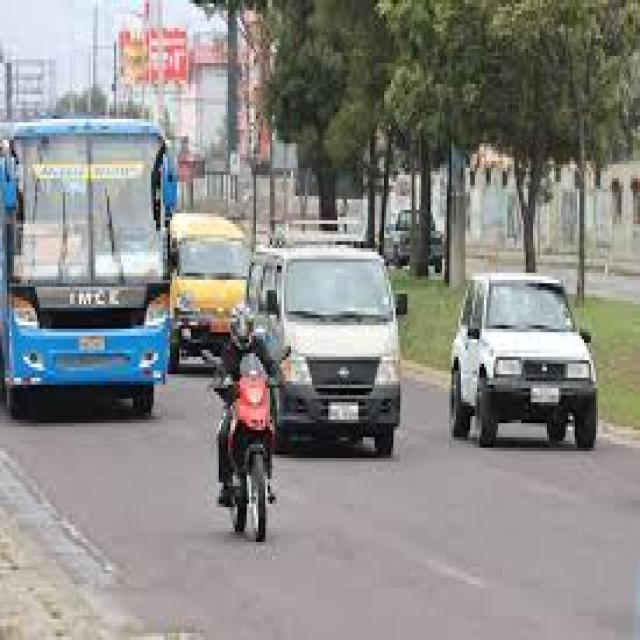BUS: (0, 112, 168, 413)
MOTORCYCLE: (220, 363, 280, 540)
SUV: (444, 271, 602, 455)
TRUCK: (250, 239, 398, 450)
